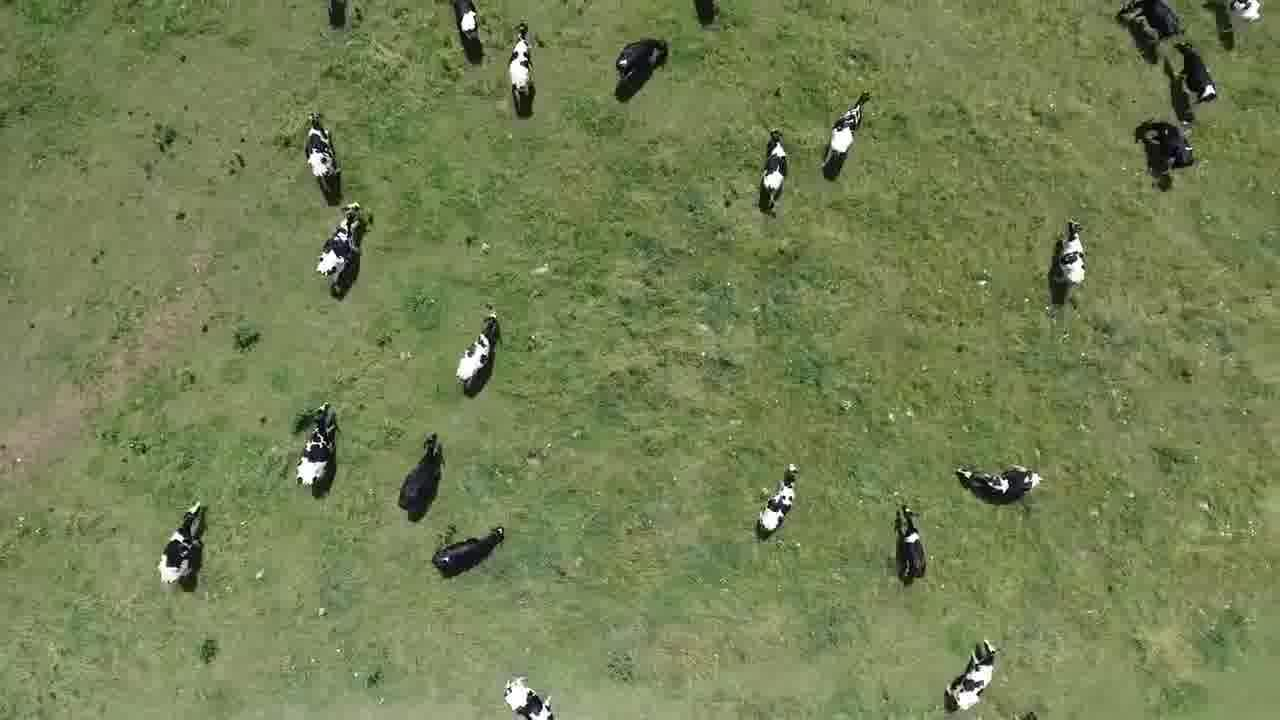cow: (313, 198, 369, 300), (818, 88, 876, 180), (153, 496, 207, 592), (300, 104, 350, 206), (942, 634, 1003, 714), (454, 307, 506, 400), (430, 520, 509, 580), (291, 398, 340, 493), (951, 462, 1044, 509), (395, 432, 444, 521), (1138, 116, 1202, 178), (754, 459, 800, 540), (506, 17, 542, 117), (754, 124, 794, 213), (1170, 38, 1221, 107), (1050, 215, 1090, 299), (613, 33, 673, 89), (893, 500, 929, 586), (1117, 0, 1185, 45), (449, 0, 489, 60), (1207, 0, 1270, 38), (502, 675, 555, 720), (688, 0, 724, 30)
